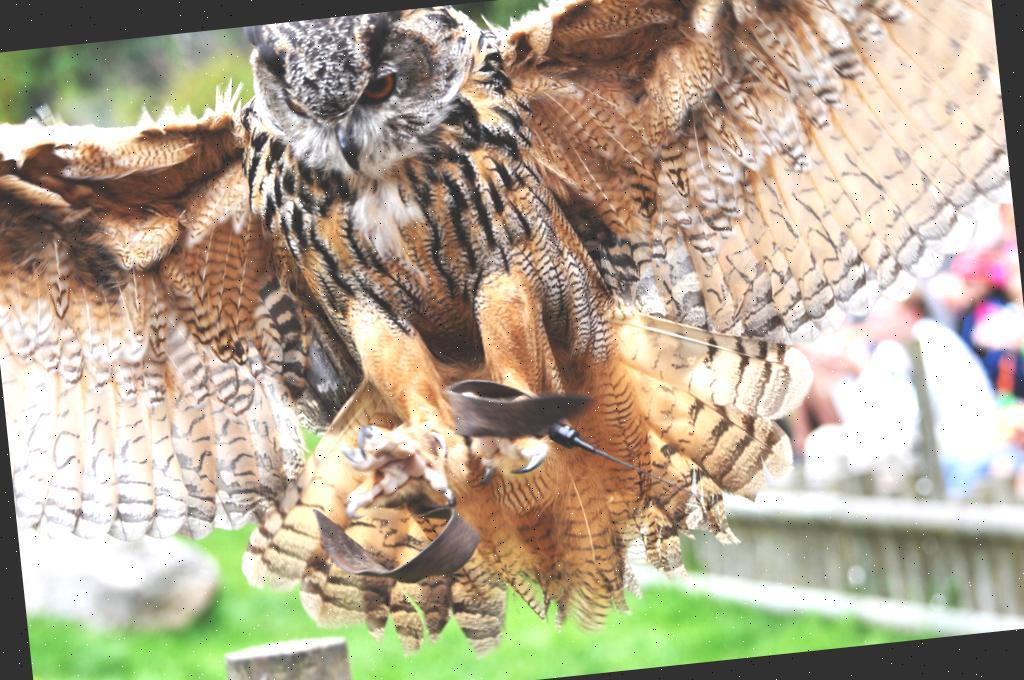Owl: (126, 0, 882, 598)
